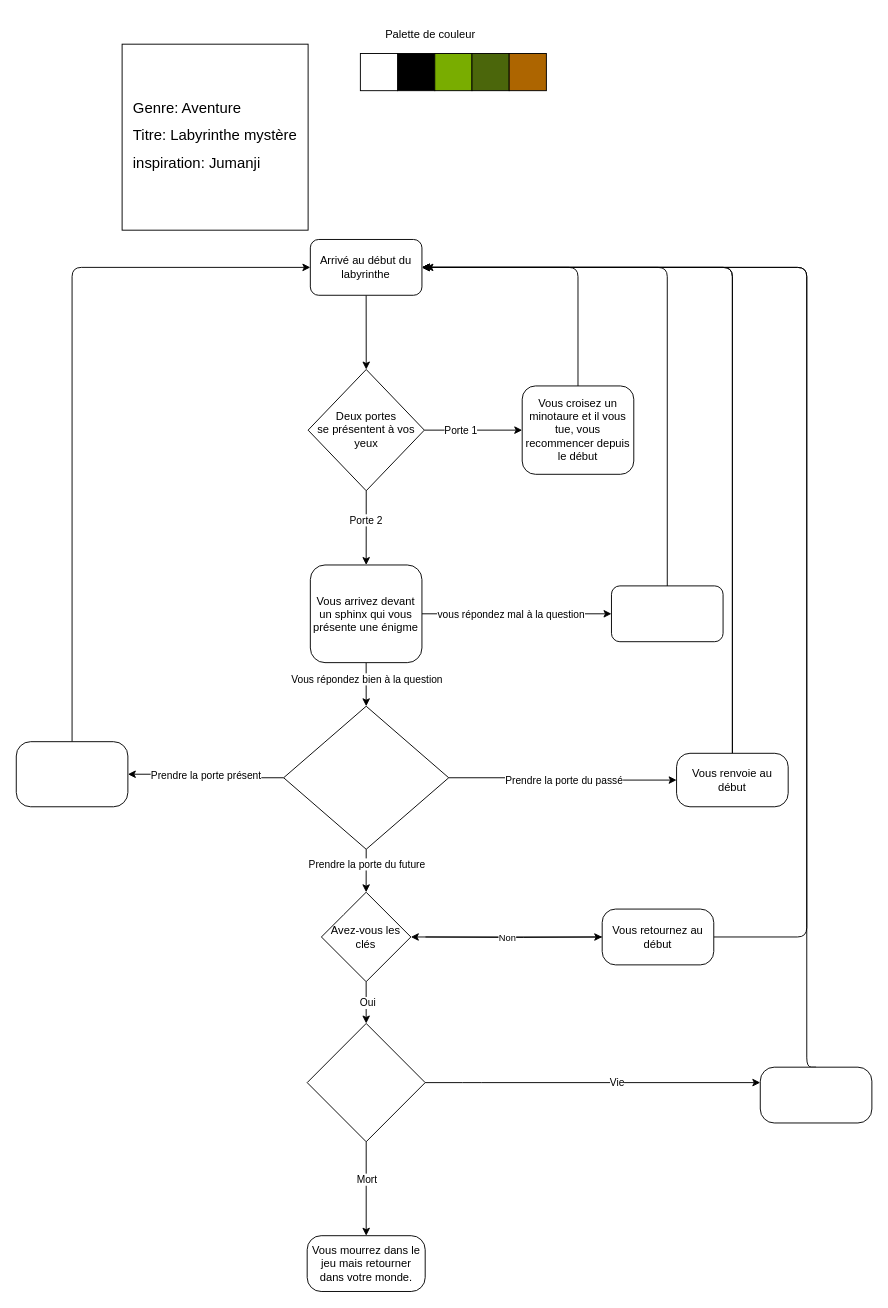
The diagram is 888 pixels wide and 1308 high, and some of its shapes have lost their labels. Here are the shapes that lost their labels. From the top down, the centre of each, then its label:
At [667,613]: "Le sphinx vous renvoie au début".
At [71,774]: "Vous renvoi au début avec des clés".
At [366,777]: "Vous arrivé devant une autre porte où vous croiser 3 portes".
At [365,1082]: "Les deux portes finales se présentent à vous: vie et mort".
At [815,1094]: "On vous redonnes une vie et vous recommencez le jeu au complet".
